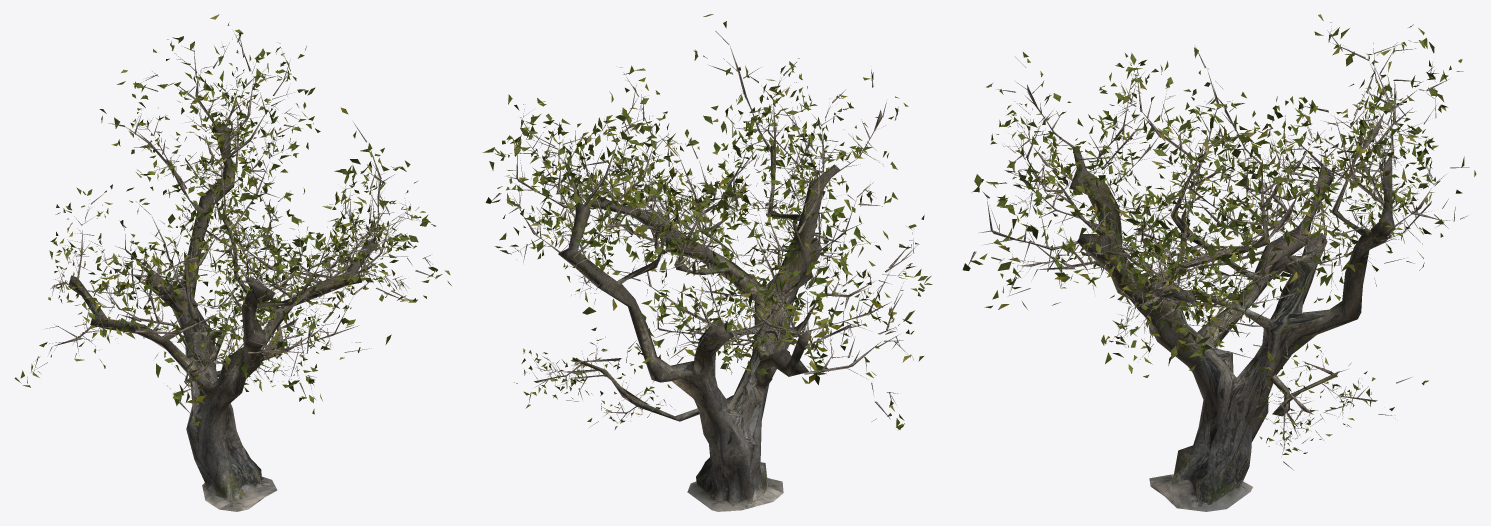
The model's file is tree_isle.glb.
3 views of the same model, side by side, from view 1: azimuth 30°, elevation 25°; view 2: azimuth 150°, elevation 25°; view 3: azimuth 270°, elevation 25° (orthographic). The views are drawn at different scales.
Visible parts, largest first — view 1: tree_isle; view 2: tree_isle; view 3: tree_isle.
Part boxes in pixels (left/top/right/bottom): tree_isle: left=14, top=14, right=451, bottom=511; tree_isle: left=482, top=14, right=932, bottom=511; tree_isle: left=962, top=14, right=1476, bottom=511.
Bounding box in the file's own units: 4.65 × 4.84 × 4.5.
Materials: 3 (3 with a texture image).
